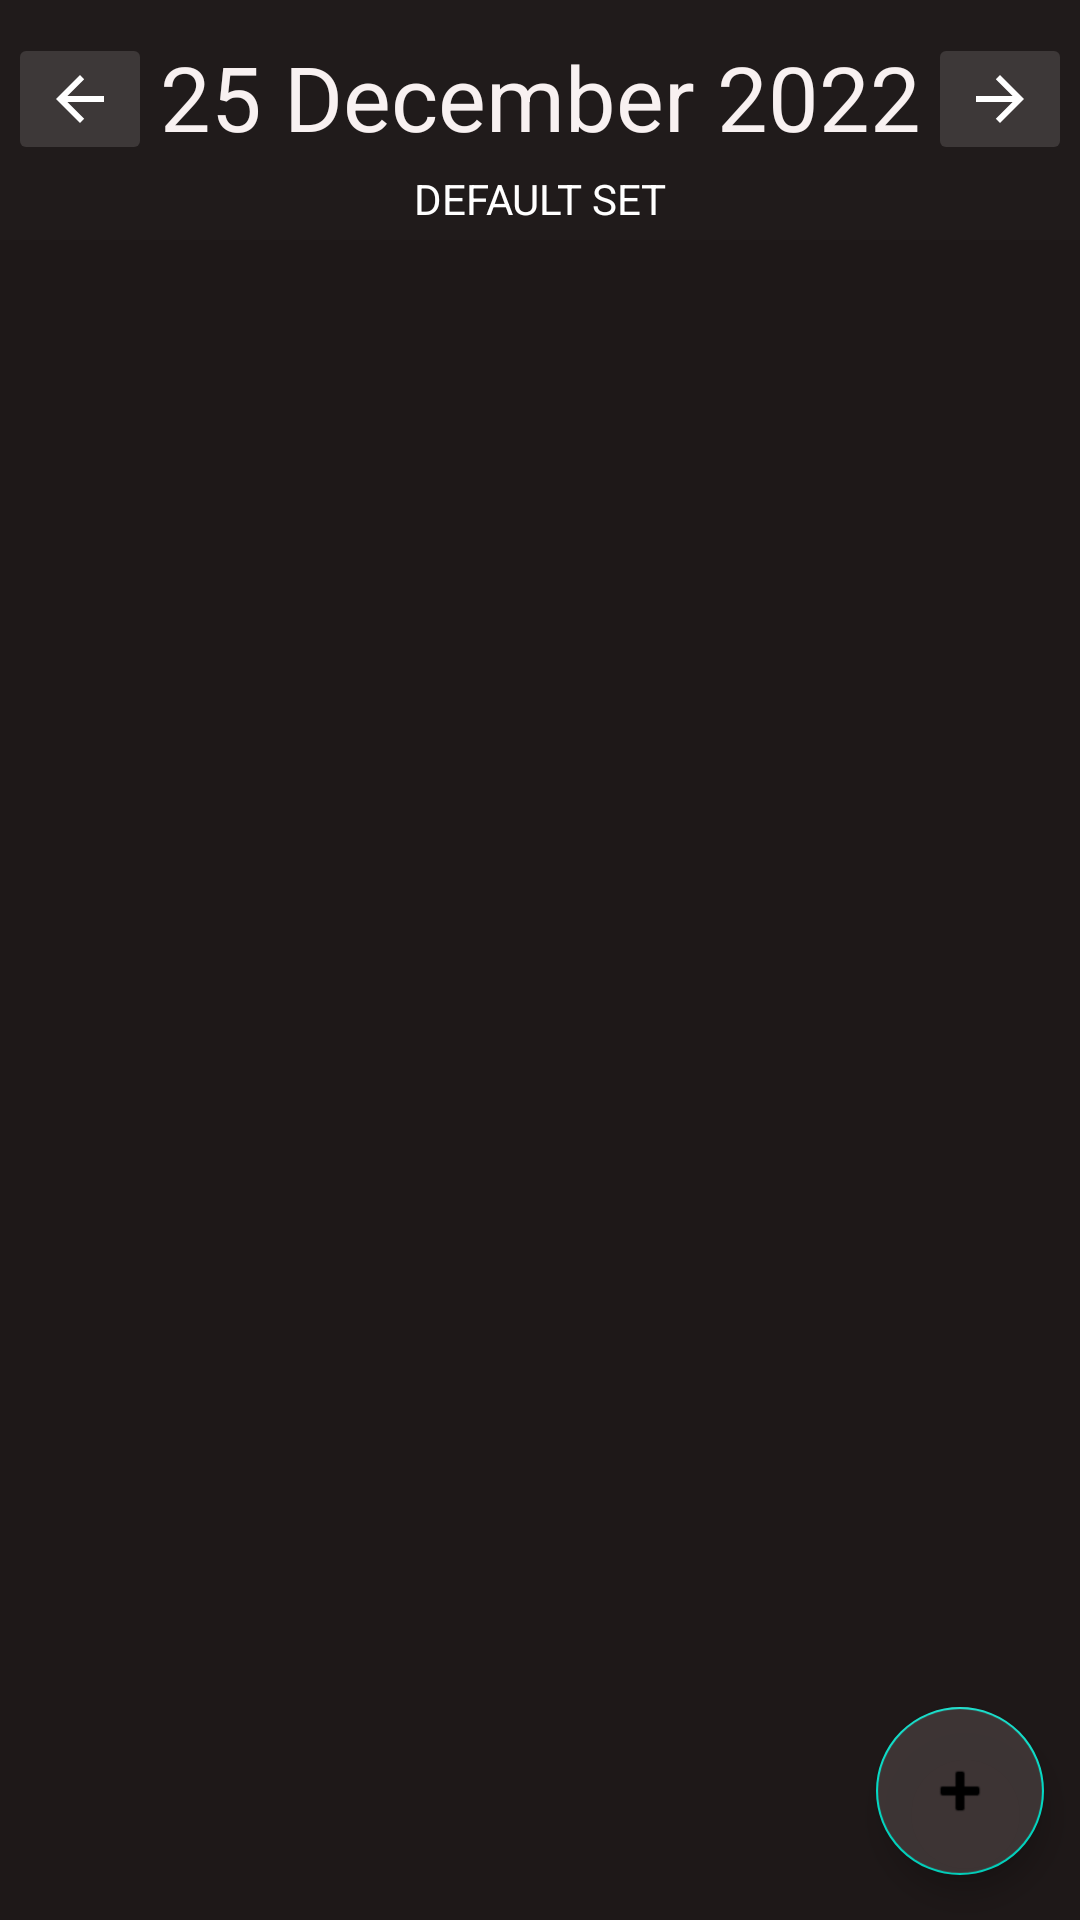

Icons on this 1080px×1920px Android screen, each with the point to tap as (x,y):
add: (960,1791)
